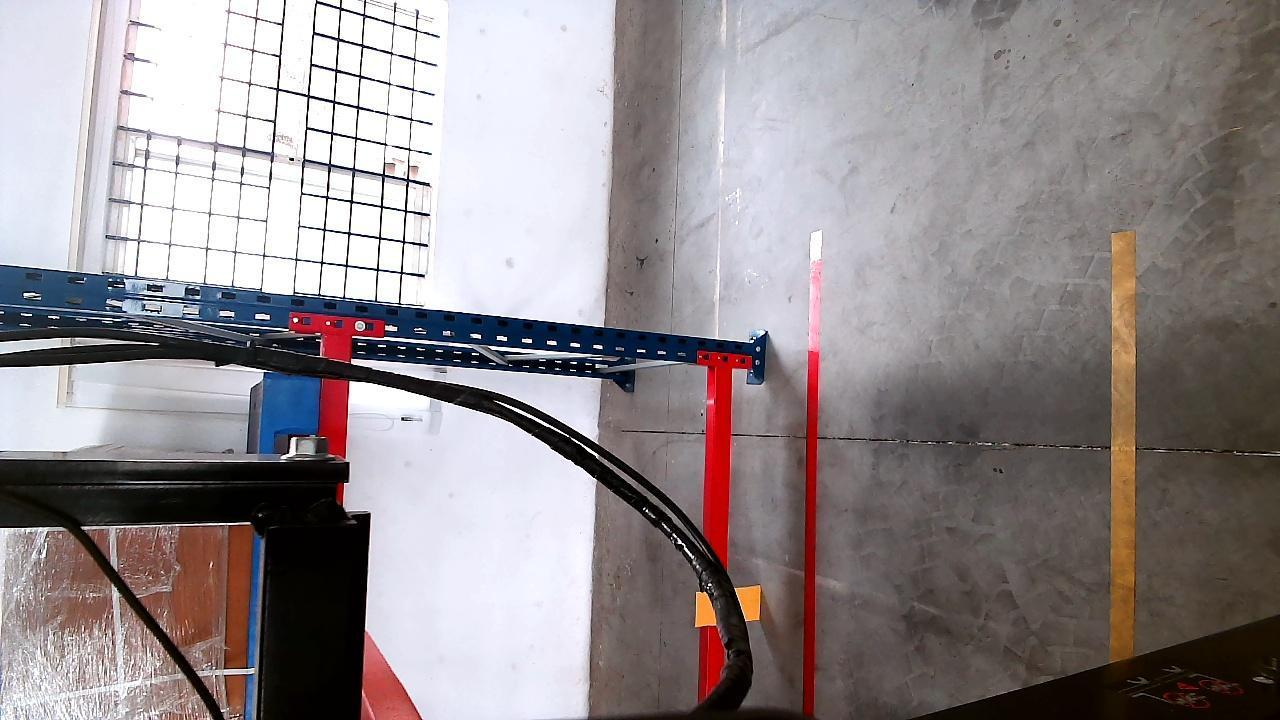h_rack: (704, 357, 733, 692)
red_line: (799, 239, 824, 720)
yellow_line: (1108, 233, 1140, 654)
